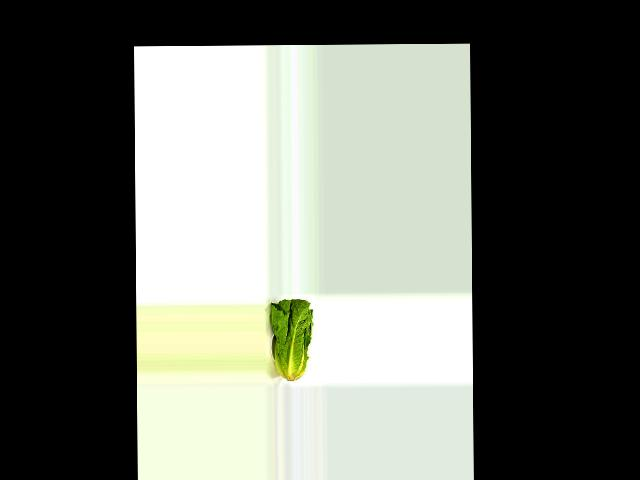lettuce: (269, 299, 315, 382)
